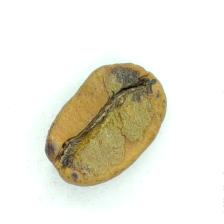NG: (46, 66, 153, 173)
